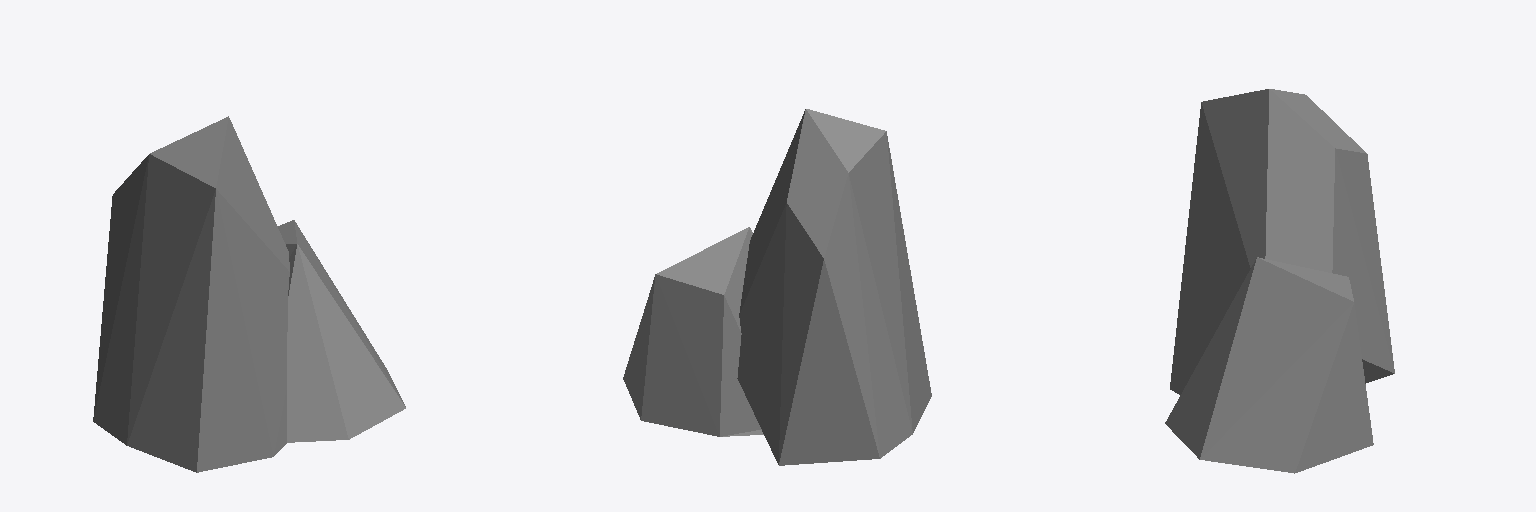
File: Rock2.obj
3 views of the same model, side by side, from view 1: azimuth 30°, elevation 25°; view 2: azimuth 150°, elevation 25°; view 3: azimuth 270°, elevation 25° (orthographic).
Visible parts, largest first — view 1: Sphere002; view 2: Sphere002; view 3: Sphere002.
Boxes of the visible parts, x1=… form: Sphere002: x1=93, y1=116, x2=405, y2=472; Sphere002: x1=623, y1=109, x2=931, y2=465; Sphere002: x1=1165, y1=89, x2=1394, y2=473.
Size of the model in its own units: 117 by 123 by 84.47.